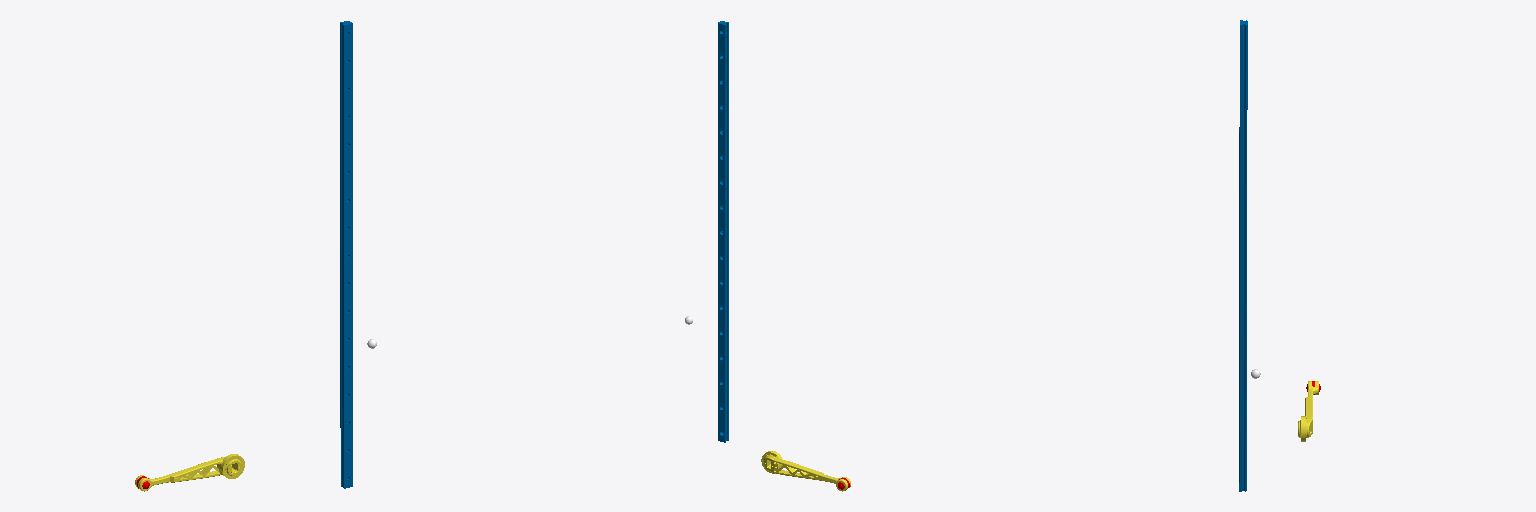
robot.urdf — softlegisaac:
<?xml version="1.0"?>
<robot name="softlegisaac">
<link name="world"/>
  <joint name="fixed" type="fixed">
      <origin xyz="0. 0. 0.02" rpy="1.57 0. 0."/>
      <parent link="world"/>
      <child link="softleg_1_cart_link"/>
  </joint>
  <joint name="softleg_1_cart_joint" type="prismatic">
      <origin xyz="0. 0.2102 0. " rpy="0.0 0.0 0.0 "/>
      <!-- <origin xyz="0. 0.2102 0. " rpy="0.0 0.0 3.14 "/> -->
      <parent link="softleg_1_cart_link"/>
      <child link="softleg_1_base_link"/>
      <axis xyz="0 1 0"/>
      <joint_properties damping=".0" friction="0.4"/>
      <limit lower="0.0" upper="2.0" effort="0." velocity="300."/>
  </joint>
  <joint name="softleg_1_ball_pseudo_joint" type="fixed">
    <origin xyz="0.072 0.0507 -0.0164 " rpy="0. 0. 0. "/>
    <parent link="softleg_1_base_link"/>
    <child link="softleg_1_ball_pseudo_link"/>
    <axis xyz="1 0 0"/>
    <limit lower="-3.1415927" upper="3.1415927" effort="11." velocity="100."/>
    </joint>

  
  <joint name="softleg_1_knee_joint" type="revolute">
    <origin xyz="0.0 -0.19 -0.0498 " rpy="0. 0. 0. "/>
    <parent link="softleg_1_thigh_link"/>
    <child link="softleg_1_calf_link"/>
    <axis xyz="0 0 -1"/>
    <limit lower="-3.1415927" upper="3.1415927" effort="11." velocity="100."/>
  </joint> 

  <joint name="softleg_1_hip_joint" type="revolute">
    <origin xyz="0.0 -0.19 -0.0498 " rpy="0. 0.0 -1.57 "/>
    <parent link="softleg_1_base_link"/>
    <child link="softleg_1_thigh_link"/>
    <axis xyz="0 0 -1"/>
    <limit lower="-3.1415927" upper="3.1415927" effort="11." velocity="100."/>
  </joint>

  <joint name="softleg_1_ankle_joint" type="fixed">
    <origin xyz="0.0 -0.19 -0.0294 " rpy="0. 0. 0. "/>
    <parent link="softleg_1_calf_link"/>
    <child link="softleg_1_foot_link"/>
    <axis xyz="1 0 0"/>
    <limit lower="-3.1415927" upper="3.1415927" effort="11." velocity="100."/>
    </joint>

 <link name="softleg_1_base_link">
    <inertial>
      <origin xyz="0. 0. 0." rpy="0. 0. 0.0"/>
      <mass value="1.2642768"/> 
      <inertia ixx="1.0129150e-02" ixy="-1.2788286e-05" ixz="-1.8432118e-05" iyy="1.9134757e-03" iyz="-1.4317404e-03" izz="9.9843305e-03"/>
    </inertial>
    <visual>
      <origin xyz="0. 0. 0." rpy="0. 0. 0."/>
      <geometry>
      <mesh filename="package://softleg_description/meshes/hip.stl" scale="0.001 0.001 0.001"/>
      </geometry>
    </visual>
    <collision>
    <origin xyz="0.0 0.0 0.0 " rpy="0. 0. 0.0"/>
      <geometry>
        <mesh filename="package://softleg_description/meshes/hip.stl" scale="0.001 0.001 0.001"/>
      </geometry>
   
    </collision>
  </link> 

  <link name="softleg_1_ball_pseudo_link">
    <inertial>
      <origin xyz="0. 0. 0." rpy="0. 0. 0."/>
      <mass value="0.001"/>
      <inertia ixx="0.0001" ixy="0.0" ixz="0.0" iyy="0.0001" iyz="0" izz="0.0001"/>
    </inertial>
    <visual>
      <origin xyz="0. 0. 0. " rpy="0. 0. 0."/>
      <geometry>
        <sphere radius="0.0095" />
      </geometry>
      <material name="gino">
        <color rgba="1 1 1 1"/>
      </material>
    </visual>
    <collision>
    <origin xyz="0. 0. 0. " rpy="0. 0. 0."/>
      <geometry>
        <sphere radius="0.0095"/>
      </geometry>
    </collision>
  </link>

  <link name="softleg_1_calf_link">
    <inertial>
      <origin xyz="0. 0. 0." rpy="0. 0. 0."/>
      <mass value="9.1088559e-02"/>
      <inertia ixx="7.3660432e-04" ixy="7.8245712e-09" ixz="1.9809329e-09" iyy="4.1085061e-05" iyz="-1.2377630e-04" izz="7.1489058e-04"/>
    </inertial>
    <visual>
      <origin xyz="0. 0. 0." rpy="0. 0. 0. "/>
      <geometry>
        <mesh filename="package://softleg_description/meshes/lower_leg_update.stl" scale="0.001 0.001 0.001"/>
      </geometry>
    </visual>
     <collision>
    <origin xyz="0.0 0. 0." rpy="0. 0 0. "/>
      <geometry>
        <sphere radius="0.015"/>
      </geometry>
  
    </collision> 

  </link>

  <link name="softleg_1_cart_link">
    <inertial>
      <origin xyz="0. 0.0 0." rpy="0. 0. 0."/>
      <mass value="40000000000000"/>
      <inertia ixx="7.8849610e-03" ixy="-1.2902140e-05" ixz="-2.5530569e-06" iyy="9.8307563e-04" iyz="-1.6230231e-03" izz="7.1995637e-03"/>
    </inertial>
    <visual>
      <origin xyz="0. 0. 0." rpy="0. 0. 0.0"/>
      <geometry>
        <mesh filename="package://softleg_description/meshes/sxr28_1000_r.stl" scale="0.001 0.001 0.001"/>
      </geometry>
    <collision>
        <origin xyz="0. 0. 0." rpy="0. 0. 0.0"/>
      <geometry>
        <mesh filename="package://softleg_description/meshes/sxr28_1000_r.stl" scale="0.001 0.001 0.001"/>
      </geometry>
    </collision>
    </visual>

  </link>
  <link name="softleg_1_thigh_link">
    <inertial>
      <origin xyz="0. 0. 0." rpy="0. 0. 0."/>
      <mass value="5.9301106e-01"/>
      <inertia ixx="1" ixy="0.01" ixz="0.01" iyy="1" iyz="0.01" izz="1"/>
    </inertial>
    <visual>
      <origin xyz="0. 0. 0." rpy="0. 0. 0.0"/>
      <geometry>
        <mesh filename="package://softleg_description/meshes/knee.stl" scale="0.001 0.001 0.001"/>
      </geometry>
    </visual>
    <collision>
    <origin xyz="0. 0. 0." rpy="0. 0. 0.0"/>
      <geometry>
        <mesh filename="package://softleg_description/meshes/knee.stl" scale="0.001 0.001 0.001"/>
      </geometry>
    </collision>
  </link> 

  <link name="softleg_1_foot_link">
    <inertial>
      <origin xyz="0. 0. 0." rpy="0. 0. 0."/>
      <mass value="0.001"/>
      <inertia ixx="0.0001" ixy="0.0" ixz="0.0" iyy="0.0001" iyz="0" izz="0.0001"/>
    </inertial>
    <visual>
      <origin xyz="0. 0. 0. " rpy="0. 0. 0."/>
      <geometry>
        <sphere radius="0.014" />
      </geometry>
      <material name="gino">
        <color rgba="1 0 0 0"/>
      </material>
    </visual>
    <collision>
    <origin xyz="0. 0. 0. " rpy="0. 0. 0."/>
      <geometry>
        <sphere radius="0.014"/>
      </geometry>
    </collision>
  </link>


  <gazebo>
  <!-- Odometry Publisher -->
                <plugin
            filename="ignition-gazebo-odometry-publisher-system"
            name="ignition::gazebo::systems::OdometryPublisher">
            <dimensions>3</dimensions>
            <odom_publish_frequency>300</odom_publish_frequency>
            <odom_frame>world</odom_frame>
            <robot_base_frame>softleg_1_ball_pseudo_link</robot_base_frame>
            <odom_topic>height_measure</odom_topic>
            <tf_topic>height_measure</tf_topic>
        </plugin>
        <plugin
            filename="ignition-gazebo-odometry-publisher-system"
            name="ignition::gazebo::systems::OdometryPublisher">
            <dimensions>3</dimensions>
            <odom_publish_frequency>300</odom_publish_frequency>
            <odom_frame>world</odom_frame>
            <robot_base_frame>softleg_1_foot_link</robot_base_frame>
            <odom_topic>foot_position</odom_topic>
            <tf_topic>foot_position</tf_topic>
        </plugin>
    <plugin filename="ign_ros2_control-system" name="ign_ros2_control::IgnitionROS2ControlPlugin">
        <parameters>[local-path]/docker_simulation_ws/install/softleg_description/share/softleg_description/config/softleg_gazebo_FeedForwardPos.yaml</parameters>    <!--  position controller configuration -->
        <!--<parameters>[local-path]/docker_simulation_ws/install/softleg_description/share/softleg_description/config/softleg_gazebo_sim_jnt_PD.yaml</parameters> --> 
    </plugin>
  </gazebo>
  <ros2_control name="IgnitionSystem" type="system">
      <hardware>
          <plugin>ign_ros2_control/IgnitionSystem</plugin>
      </hardware>
      <joint name="softleg_1_cart_joint">
                <!-- <command_interface name="effort" /> -->
                <state_interface name="position">
                    <param name="initial_value">-0.0</param>
                </state_interface>
                <state_interface name="velocity">
                    <param name="initial_value">0.0</param>
                </state_interface>
                <state_interface name="effort" />
      </joint>     
      <joint name="softleg_1_hip_joint">
              <command_interface name="position" />
              <state_interface name="position">
                  <param name="initial_value">-0.0</param>
              </state_interface>
              <state_interface name="velocity">
                  <param name="initial_value">0.0</param>
              </state_interface>
              <state_interface name="effort" />
      </joint>
      <joint name="softleg_1_knee_joint">
                <command_interface name="position" />
                <state_interface name="position">
                    <param name="initial_value">-0.0</param>
                </state_interface>
                <state_interface name="velocity">
                    <param name="initial_value">0.0</param>
                </state_interface>
                <state_interface name="effort" />
            </joint>
        </ros2_control>

        <gazebo reference="softleg_1_cart_link">
            <gravity>true</gravity>
            <material>Gazebo/White</material>
            <kp>100000.0</kp>
            <kd>1000.0</kd>
            <mu1>0.0</mu1>
            <mu2>0.0</mu2>
            <slip1>0.1</slip1>
            <slip2>0.1</slip2>
            <collision>
              <surface>
                <contact>
                  <ode>
                  <min_depth>0.0</min_depth>
                  </ode>
                </contact>
              </surface>
            </collision>
          </gazebo>
          <gazebo reference="softleg_1_base_link">
          <gravity>true</gravity>
          <material>Gazebo/White</material>
          <!-- <kp>1e15</kp>
          <kd>1e15</kd>
          <mu>5.0</mu>
          <mu2>0.0</mu2>
          <slip1>0.0</slip1>
          <slip2>0.0</slip2>
          <collision>
            <surface>
              <contact>
                <ode>
                  <min_depth>0.0</min_depth>
                </ode>
              </contact>
            </surface>
          </collision> -->
        </gazebo>
        <gazebo reference="softleg_1_thigh_link">
          <gravity>true</gravity>
          <material>Gazebo/White</material>
          <!-- <kp>1e6</kp>
          <kd>1e2</kd>
          <mu1>1</mu1>
          <mu2>1</mu2>
          <slip1>0</slip1>
          <slip2>0</slip2>
          <collision>
            <surface>
              <contact>
                <ode>
                  <min_depth>0.01</min_depth>
                </ode>
              </contact>
            </surface>
          </collision> -->
        </gazebo>
        <gazebo reference="softleg_1_calf_link">
          <gravity>true</gravity>
          <material>Gazebo/White</material>
          <sensor name='sensor_contact' type='contact'>
              <contact>
                  <collision>collision</collision>
              </contact>
          </sensor>
        </gazebo> 



</robot>

--- What the picture shows (computed from the rendered views, not written in the file) ---
The picture shows the robot from 3 angles, left to right: view 1: azimuth 30°, elevation 25°; view 2: azimuth 150°, elevation 25°; view 3: azimuth 270°, elevation 25°; orthographic projection.
Model softlegisaac with 7 links and 6 joints (2 revolute, 1 prismatic, 3 fixed), rooted at world, posed every joint at zero.
Links seen in each view (by area): view 1: softleg_1_cart_link, softleg_1_calf_link; view 2: softleg_1_cart_link, softleg_1_calf_link; view 3: softleg_1_cart_link, softleg_1_calf_link.
Link boxes in pixels (x1,y1,x2,y2): softleg_1_cart_link: [340, 21, 352, 488]; softleg_1_calf_link: [135, 454, 244, 491]; softleg_1_cart_link: [718, 21, 728, 442]; softleg_1_calf_link: [761, 451, 850, 491]; softleg_1_cart_link: [1239, 20, 1247, 491]; softleg_1_calf_link: [1298, 381, 1318, 441].
Size in the robot's own frame: 0.4755 by 0.1585 by 1 metres.
Meshes: 4 distinct files referenced, 2 mesh visuals loaded (2 binary STL); not drawn: 2 (reference not matched to a file when rendering).
